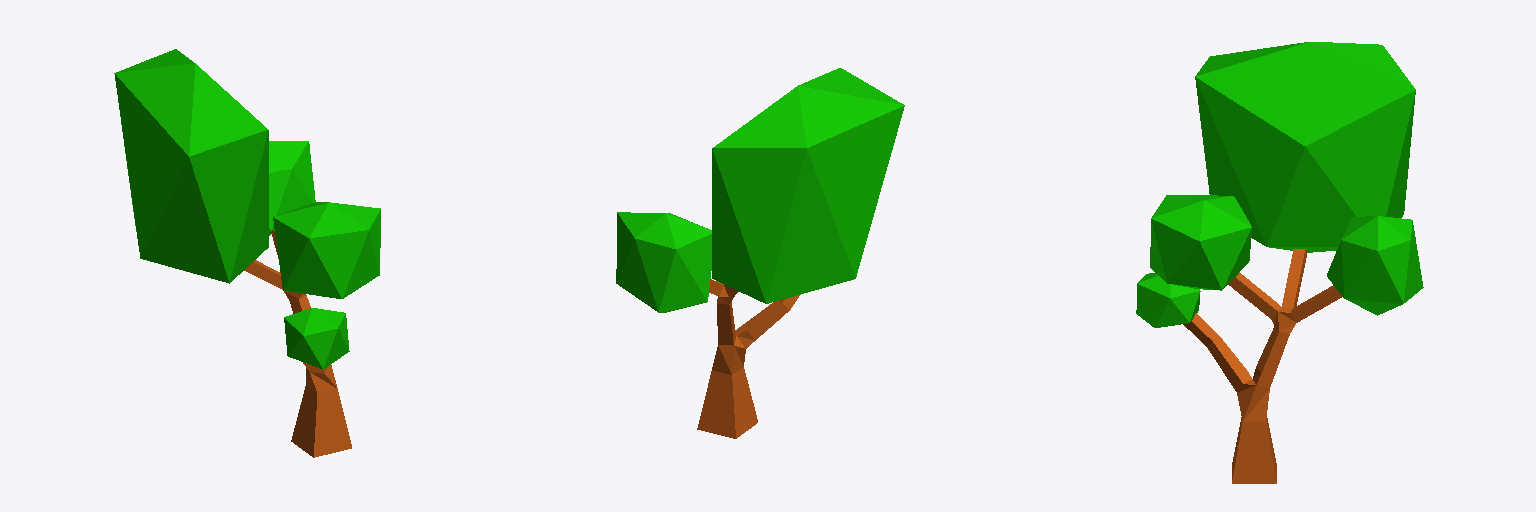
File: dtree2C(F274).obj
3 renders of one model, left to right at view 1: azimuth 30°, elevation 25°; view 2: azimuth 150°, elevation 25°; view 3: azimuth 270°, elevation 25°, orthographic.
Parts seen in each view (by area): view 1: Icosphere.098, Icosphere.099, Cube.024, Icosphere.096, Icosphere.097; view 2: Icosphere.098, Icosphere.097, Cube.024; view 3: Icosphere.098, Cube.024, Icosphere.099, Icosphere.097, Icosphere.096.
Boxes of the visible parts, <box> form: Icosphere.098: <box>114,49,268,283</box>; Icosphere.099: <box>273,202,380,298</box>; Cube.024: <box>244,230,351,457</box>; Icosphere.096: <box>284,308,349,369</box>; Icosphere.097: <box>269,141,315,235</box>; Icosphere.098: <box>712,68,904,303</box>; Icosphere.097: <box>616,212,711,312</box>; Cube.024: <box>697,279,799,438</box>; Icosphere.098: <box>1195,42,1415,252</box>; Cube.024: <box>1183,249,1342,483</box>; Icosphere.099: <box>1150,195,1251,290</box>; Icosphere.097: <box>1327,216,1423,315</box>; Icosphere.096: <box>1136,273,1200,327</box>.
Size of the model in its own units: 1.37 by 2.48 by 1.67.